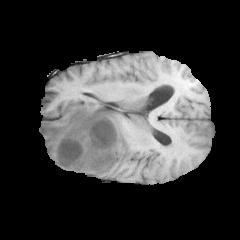glioma: (39, 103, 130, 173)
